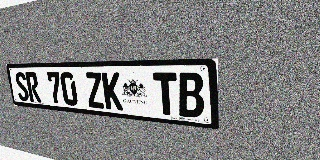0: (59, 72, 78, 106)
7: (46, 72, 64, 105)
B: (177, 72, 204, 119)
K: (101, 72, 123, 111)
R: (25, 72, 41, 103)
S: (14, 72, 30, 101)
T: (153, 72, 178, 116)
Z: (84, 72, 105, 109)
